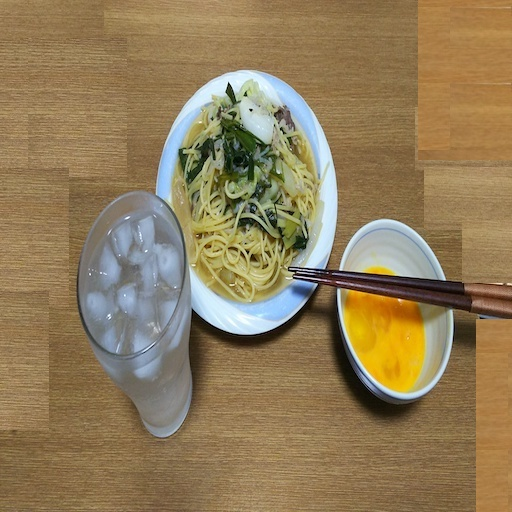drink: (76, 189, 194, 442)
other: (339, 266, 427, 402)
pasta: (175, 81, 321, 304)
